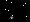person: (9, 9, 16, 19)
